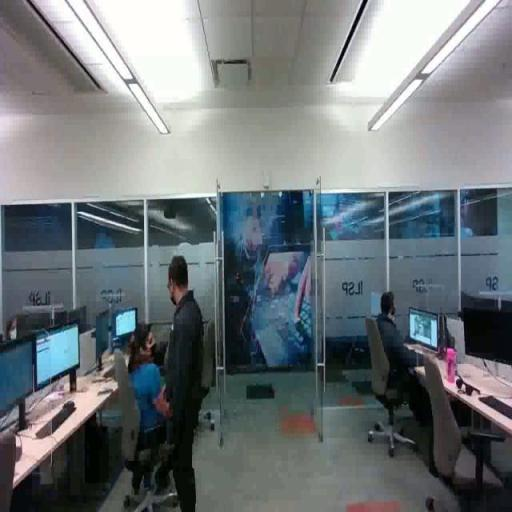person: (160, 250, 206, 512), (375, 289, 442, 415), (120, 323, 168, 469)
